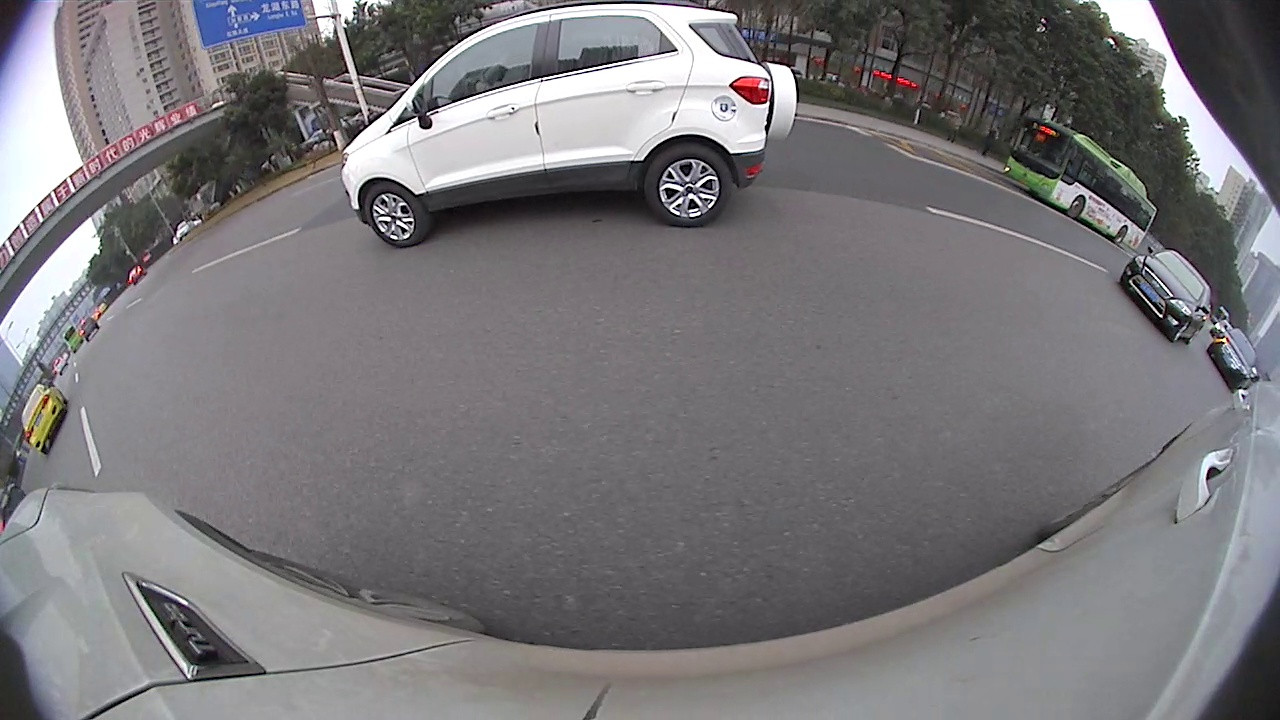bus: (1002, 115, 1159, 249)
car: (342, 2, 799, 249), (1118, 249, 1212, 345), (19, 381, 68, 456), (1208, 326, 1259, 394)
front: (363, 186, 430, 248), (1068, 196, 1085, 219)
rear: (643, 146, 734, 227), (1114, 227, 1129, 244)
